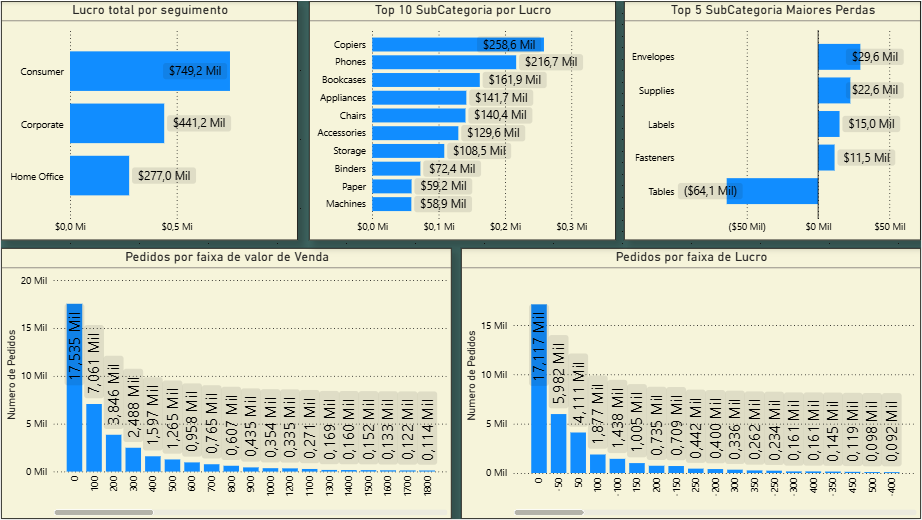

This screenshot's page, from the dashboard's own definition file:
{"tool":"powerbi","page":{"name":"Página 2","canvas":[1280,720],"ordinal":1},"visuals":[{"type":"barChart","title":"Lucro total por seguimento","fields":{"Y":["Medidas Rápidas.Total_Lucro"],"Category":["superstore.Seguimento"]},"box":[0,0,413.2,332.5],"z":0},{"type":"columnChart","title":"Pedidos por faixa de valor de Venda","fields":{"Category":["superstore.Vendas (compartimentos)"],"Y":["Count(superstore.Order.ID)"]},"box":[0,343.7,627.5,377],"z":1000},{"type":"columnChart","title":"Pedidos por faixa de Lucro","fields":{"Y":["Count(superstore.Order.ID)"],"Category":["superstore.Lucro (compartimentos)"]},"box":[640,343.7,640,377],"z":2000},{"type":"barChart","title":"Top 10 SubCategoria por Lucro","fields":{"Y":["Medidas Rápidas.Total_Lucro"],"Category":["superstore.Sub.Category"]},"box":[428.5,0,427.1,332.5],"z":3000},{"type":"barChart","title":"Top 5 SubCategoria Maiores Perdas","fields":{"Y":["Medidas Rápidas.Total_Lucro"],"Category":["superstore.Sub.Category"]},"box":[866.8,0,413.2,332.5],"z":4000}]}

Visuals, with their boxes in screenshot pixels (x1, y1, x2, y2), scaled from the page's 1280x720 canvas onto the 922x520 screenshot:
"Lucro total por seguimento" barChart: [x1=0, y1=0, x2=298, y2=240]
"Pedidos por faixa de valor de Venda" columnChart: [x1=0, y1=248, x2=452, y2=519]
"Pedidos por faixa de Lucro" columnChart: [x1=461, y1=248, x2=921, y2=519]
"Top 10 SubCategoria por Lucro" barChart: [x1=309, y1=0, x2=616, y2=240]
"Top 5 SubCategoria Maiores Perdas" barChart: [x1=624, y1=0, x2=921, y2=240]
